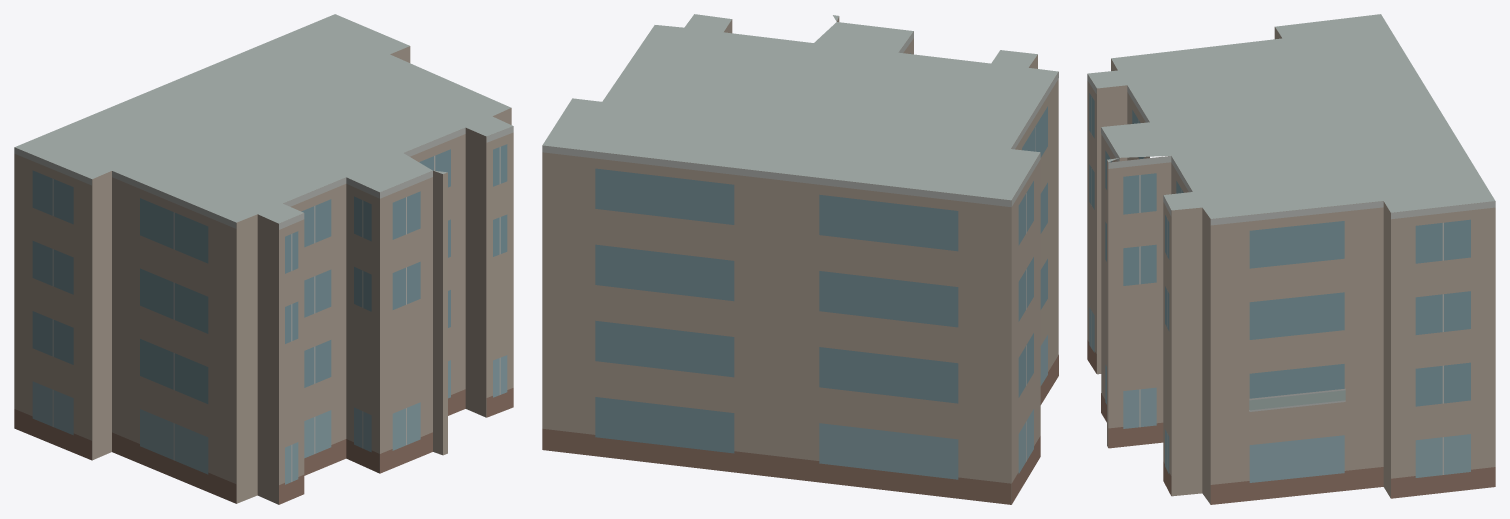
Rendered from survey-upis-32536078.glb.
3 views of the same model, side by side, from view 1: azimuth 30°, elevation 25°; view 2: azimuth 150°, elevation 25°; view 3: azimuth 270°, elevation 25° (orthographic). The views are drawn at different scales.
Parts seen in each view (by area): view 1: survey-upis-32536078.tmp; view 2: survey-upis-32536078.tmp; view 3: survey-upis-32536078.tmp.
Boxes of the visible parts, x1=… form: survey-upis-32536078.tmp: x1=14, y1=14, x2=513, y2=504; survey-upis-32536078.tmp: x1=542, y1=14, x2=1058, y2=504; survey-upis-32536078.tmp: x1=1087, y1=14, x2=1495, y2=504.
Bounding box in the file's own units: 16.54 × 10.75 × 13.92.
